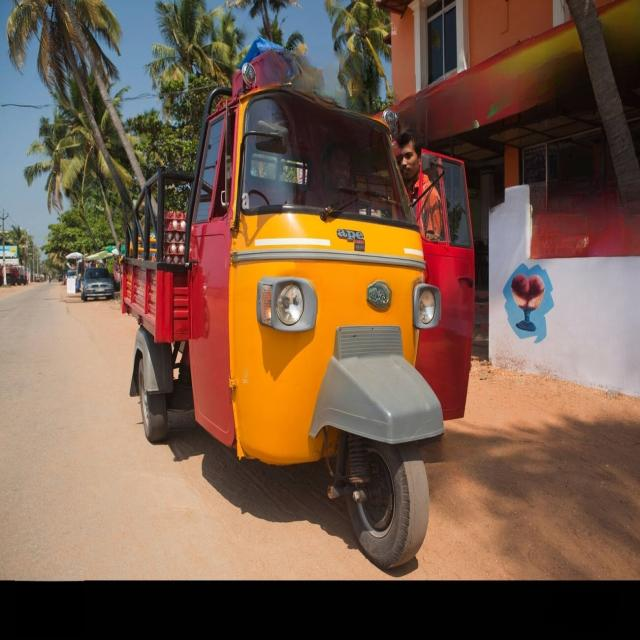autorickshaw: (121, 41, 475, 568)
